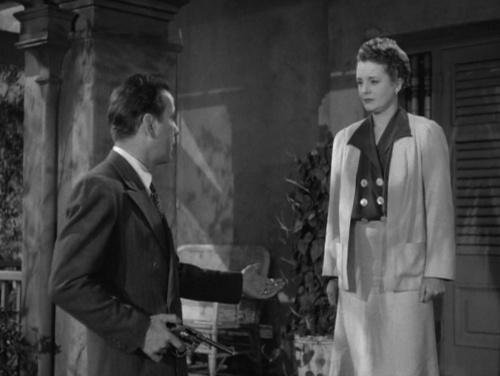Gun: (168, 325, 238, 361)
